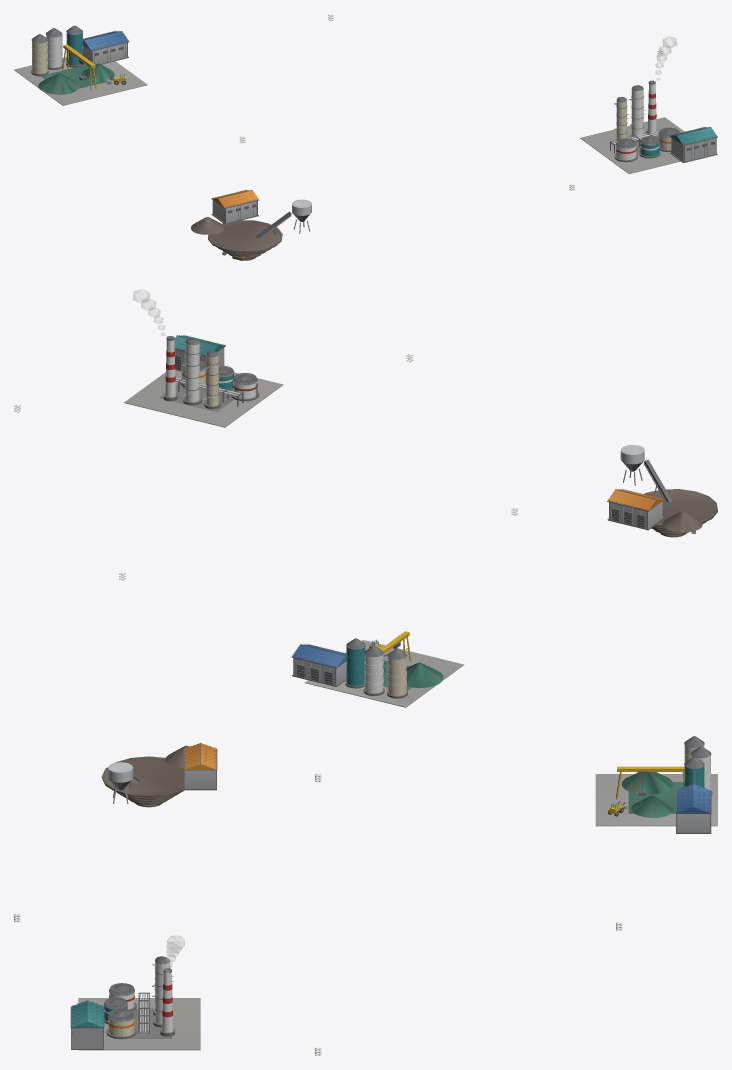
File: Sites_P3.fbx
The picture shows the model from 3 angles, top to bottom: view 1: azimuth 30°, elevation 25°; view 2: azimuth 150°, elevation 25°; view 3: azimuth 270°, elevation 25°; orthographic projection. The views are drawn at different scales.
Parts seen in each view (by area): view 1: Site.Store.Yard, Site.Quarry.Benches, Site.Plant.Pad, Site.Plant.Hall, Site.Quarry.Shed, Site.Store.Shed, Site.Plant.Col1, Site.Store.Silo0, Site.Store.Pile0, Site.Store.Silo1, Site.Store.Silo2, Site.Plant.Col0 (+6 smaller); view 2: Site.Plant.Pad, Site.Store.Yard, Site.Store.Shed, Site.Quarry.Shed, Site.Quarry.Benches, Site.Plant.Col1, Site.Store.Silo0, Site.Store.Silo1, Site.Store.Silo2, Site.Plant.Hall, Site.Plant.Col0, Site.Store.Pile0 (+2 smaller); view 3: Site.Plant.Pad, Site.Store.Yard, Site.Quarry.Benches, Site.Store.Shed, Site.Plant.Hall, Site.Quarry.Shed, Site.Store.Pile0, Site.Plant.Tank2, Site.Plant.Stack, Site.Plant.Col1, Site.Store.Pile1, Site.Quarry.Hopper (+2 smaller).
Part boxes in pixels (<box>): Site.Store.Yard: <box>14,57,147,105</box>; Site.Quarry.Benches: <box>208,220,282,260</box>; Site.Plant.Pad: <box>580,117,684,173</box>; Site.Plant.Hall: <box>670,127,717,162</box>; Site.Quarry.Shed: <box>211,189,259,224</box>; Site.Store.Shed: <box>83,31,129,64</box>; Site.Plant.Col1: <box>628,85,645,141</box>; Site.Store.Silo0: <box>31,34,48,76</box>; Site.Store.Pile0: <box>38,73,79,94</box>; Site.Store.Silo1: <box>46,28,62,69</box>; Site.Store.Silo2: <box>66,25,82,67</box>; Site.Plant.Col0: <box>614,97,629,142</box>; Site.Plant.Pad: <box>124,370,283,427</box>; Site.Store.Yard: <box>305,640,464,707</box>; Site.Store.Shed: <box>291,644,346,686</box>; Site.Quarry.Shed: <box>607,489,664,530</box>; Site.Quarry.Benches: <box>644,489,717,537</box>; Site.Plant.Col1: <box>182,338,202,405</box>; Site.Store.Silo0: <box>387,648,407,698</box>; Site.Store.Silo1: <box>363,646,384,695</box>; Site.Store.Silo2: <box>345,638,365,688</box>; Site.Plant.Hall: <box>174,335,225,371</box>; Site.Plant.Col0: <box>203,351,221,409</box>; Site.Store.Pile0: <box>406,662,443,687</box>; Site.Plant.Pad: <box>78,998,200,1050</box>; Site.Store.Yard: <box>595,774,717,826</box>; Site.Quarry.Benches: <box>101,756,184,807</box>; Site.Store.Shed: <box>675,784,711,833</box>; Site.Plant.Hall: <box>70,1000,104,1049</box>; Site.Quarry.Shed: <box>183,742,217,790</box>; Site.Store.Pile0: <box>621,772,672,794</box>; Site.Plant.Tank2: <box>106,1008,136,1039</box>; Site.Plant.Stack: <box>160,968,174,1036</box>; Site.Plant.Col1: <box>152,957,173,1027</box>; Site.Store.Pile1: <box>631,795,673,818</box>; Site.Quarry.Hopper: <box>108,762,133,803</box>.
Bounding box in the file's own units: 32019 × 6153 × 29934.
